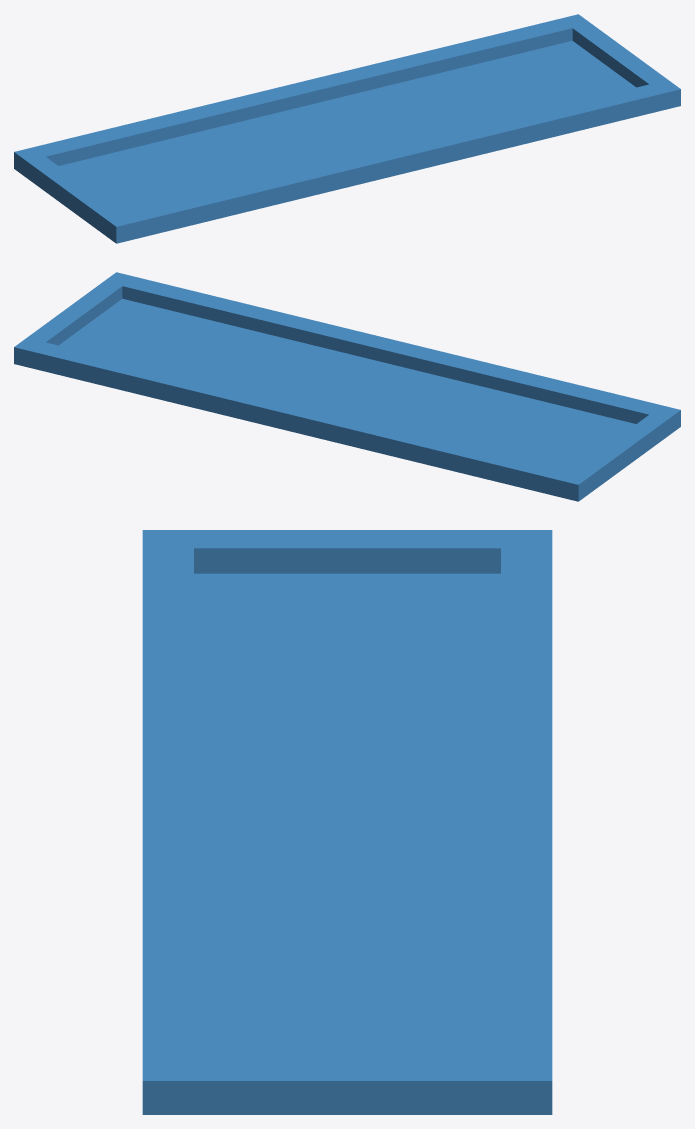
The model's file is Deco_Planter_C.fbx.
3 renders of one model, top to bottom at view 1: azimuth 30°, elevation 25°; view 2: azimuth 150°, elevation 25°; view 3: azimuth 270°, elevation 25°, orthographic. The views are drawn at different scales.
Visible parts, largest first — view 1: Deco_Planter_C; view 2: Deco_Planter_C; view 3: Deco_Planter_C.
Boxes of the visible parts, x1,y1,x2,y2 form: Deco_Planter_C: (14, 14, 680, 243); Deco_Planter_C: (14, 272, 680, 501); Deco_Planter_C: (142, 530, 552, 1114).
Bounding box in the file's own units: 525 × 15 × 165.
